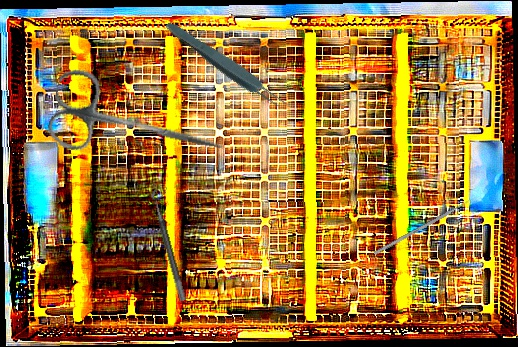Fixation Ring: (150, 187, 196, 302)
Iris Scissors: (44, 65, 233, 183)
Pusher: (373, 194, 479, 256)
Tissue Forceps: (161, 17, 291, 115)
